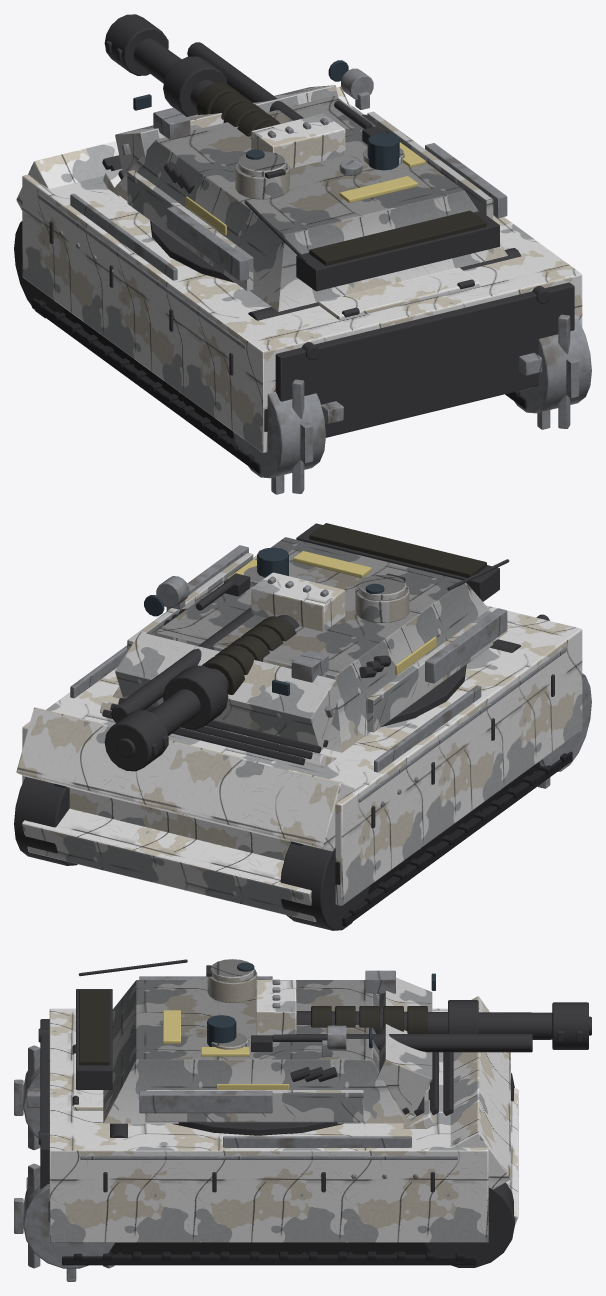
File: tank_boss.glb
3 renders of one model, top to bottom at view 1: azimuth 30°, elevation 25°; view 2: azimuth 150°, elevation 25°; view 3: azimuth 270°, elevation 25°, orthographic. The views are drawn at different scales.
Parts seen in each view (by area): view 1: HullMesh, TurretMesh, BarrelMesh; view 2: HullMesh, TurretMesh, BarrelMesh; view 3: HullMesh, TurretMesh, BarrelMesh, Wheel_R1, Wheel_R5, Wheel_R6, Wheel_R3, Wheel_R4, Wheel_R2.
Part boxes in pixels (left/top/right/bottom): HullMesh: left=14, top=86, right=591, bottom=494; TurretMesh: left=112, top=60, right=507, bottom=311; BarrelMesh: left=104, top=14, right=345, bottom=168; HullMesh: left=14, top=555, right=591, bottom=930; TurretMesh: left=112, top=523, right=509, bottom=752; BarrelMesh: left=104, top=572, right=345, bottom=771; HullMesh: left=14, top=996, right=518, bottom=1281; TurretMesh: left=76, top=959, right=435, bottom=1135; BarrelMesh: left=256, top=979, right=591, bottom=1052; Wheel_R1: left=342, top=1242, right=403, bottom=1254; Wheel_R5: left=158, top=1242, right=219, bottom=1254; Wheel_R6: left=113, top=1242, right=173, bottom=1254; Wheel_R3: left=250, top=1242, right=311, bottom=1254; Wheel_R4: left=204, top=1242, right=265, bottom=1254; Wheel_R2: left=296, top=1242, right=357, bottom=1254.
Size of the model in its own units: 4.66 by 3.55 by 7.9.
Materials: 10 (2 with a texture image).
